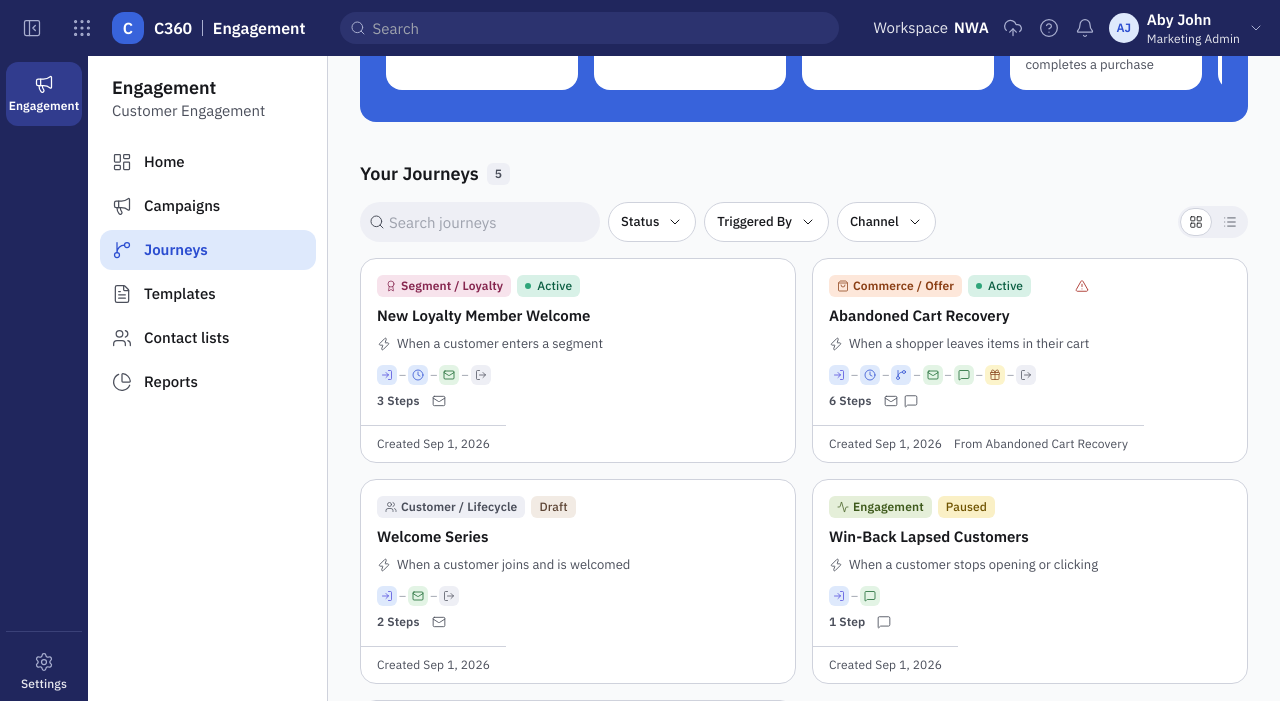
Test: a grid card click opens the same preview popover as a row
The width and height of the screenshot is (1280, 701).
(page scrolled)
Click the button "New Loyalty Member Welcome": [444, 286] box [360,258,796,463]
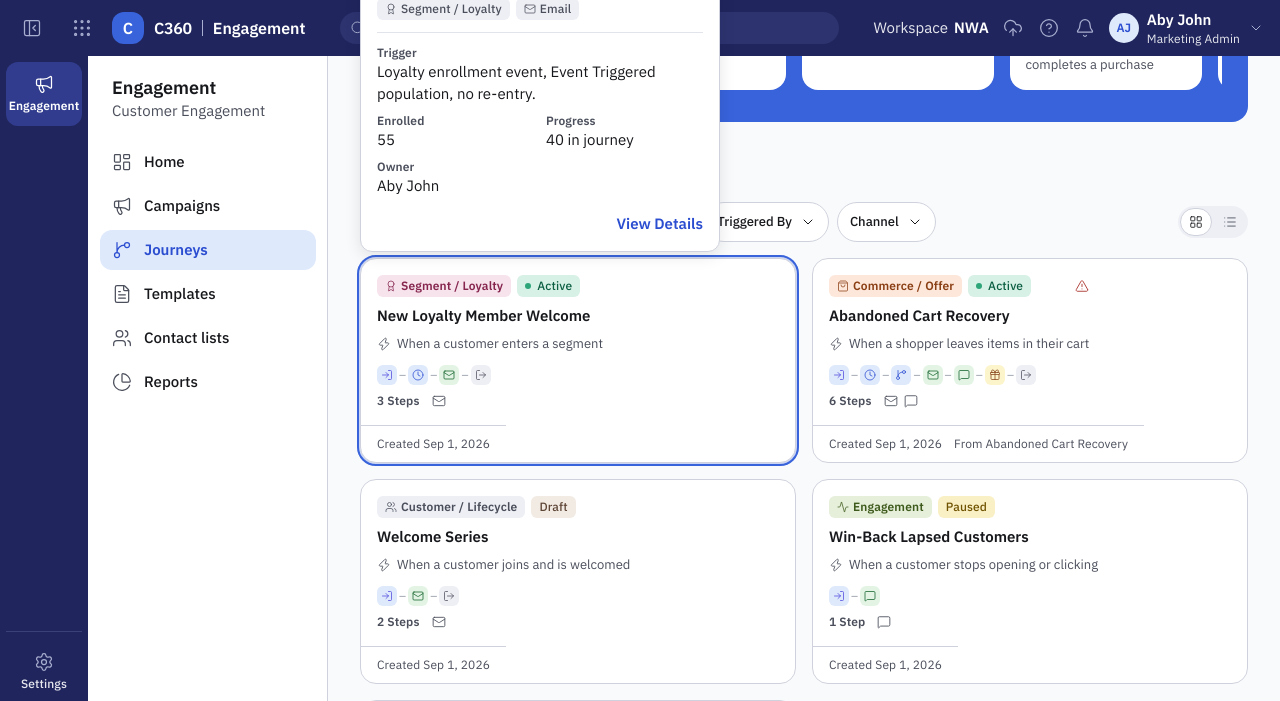
Check: the text "Aby John" below "Owner" is shown, box [377,176,439,195]
Click the button "View Details": [660, 224] box [616,213,703,235]
(page scrolled)
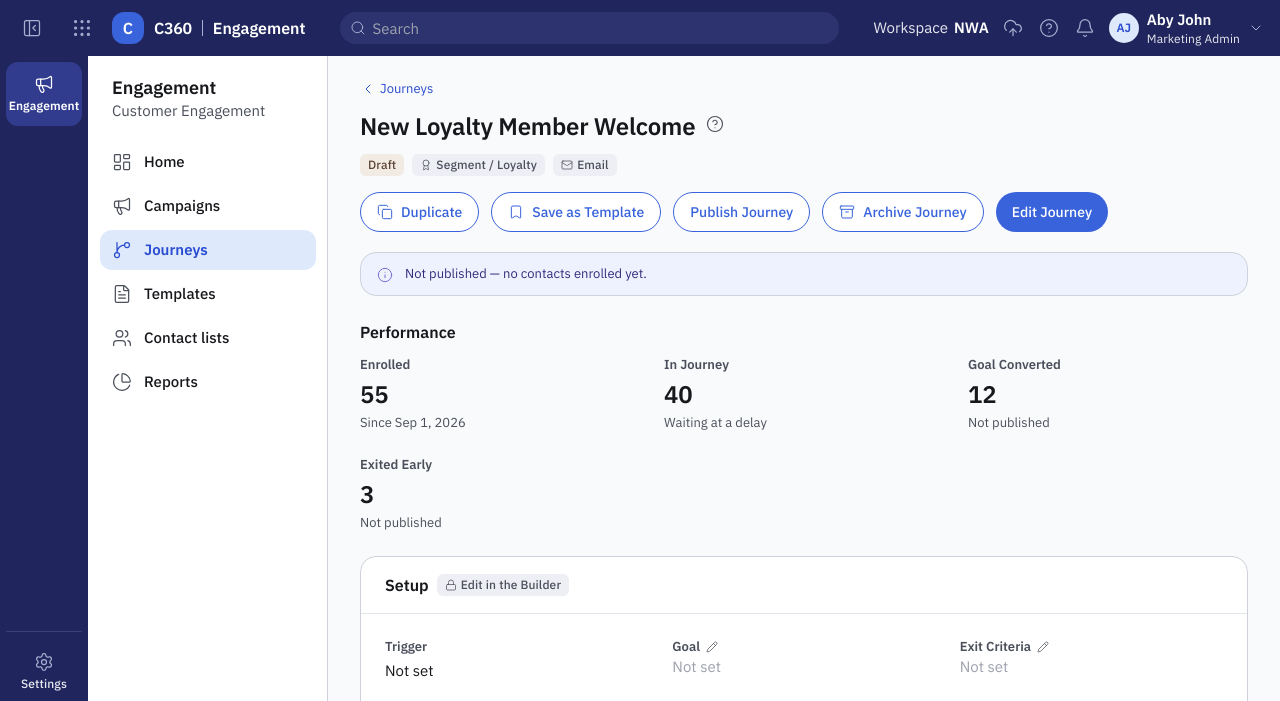
Check: the heading "New Loyalty Member Welcome" is shown, box [360,110,695,142]
